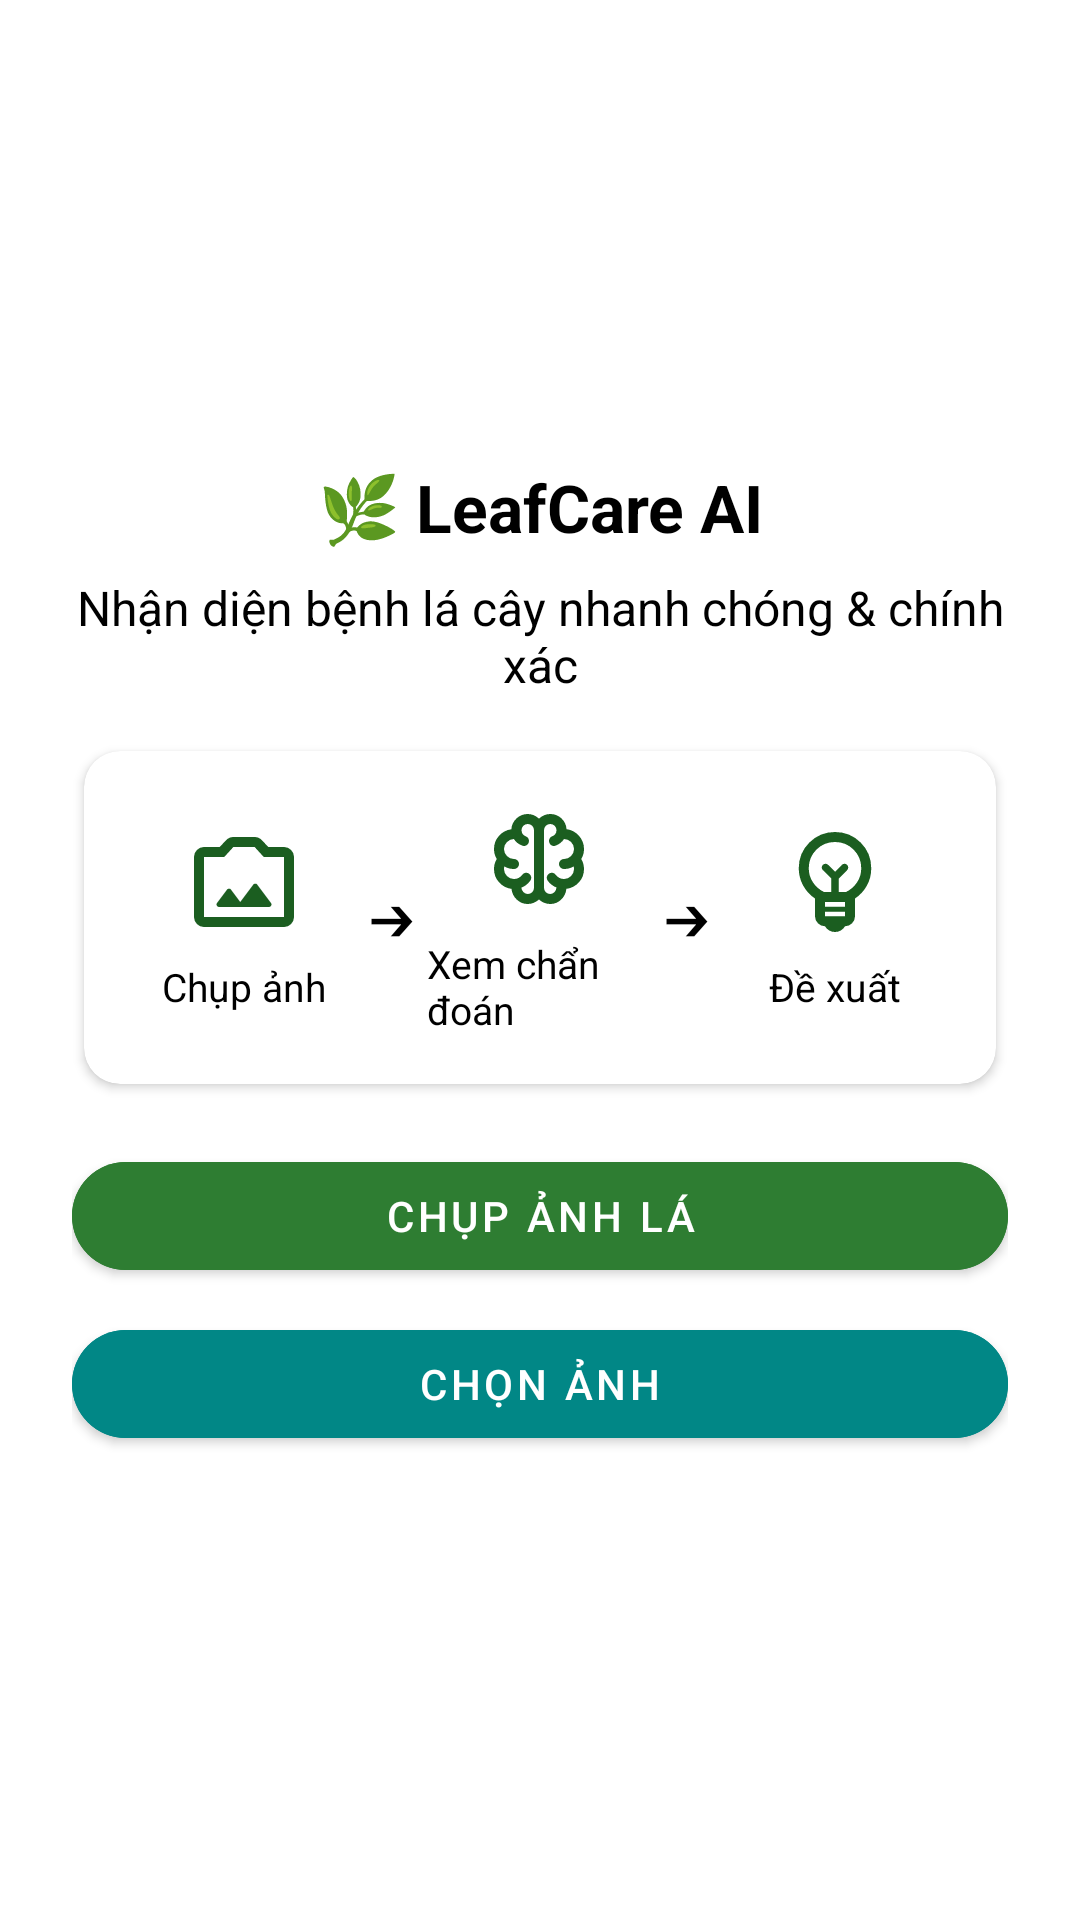

Icon bounding boxes for this 1080px x 1920px phone screenshot, format bbox=[x1, y1, x2, y2]:
lightbulb: bbox=[798, 832, 872, 932]
